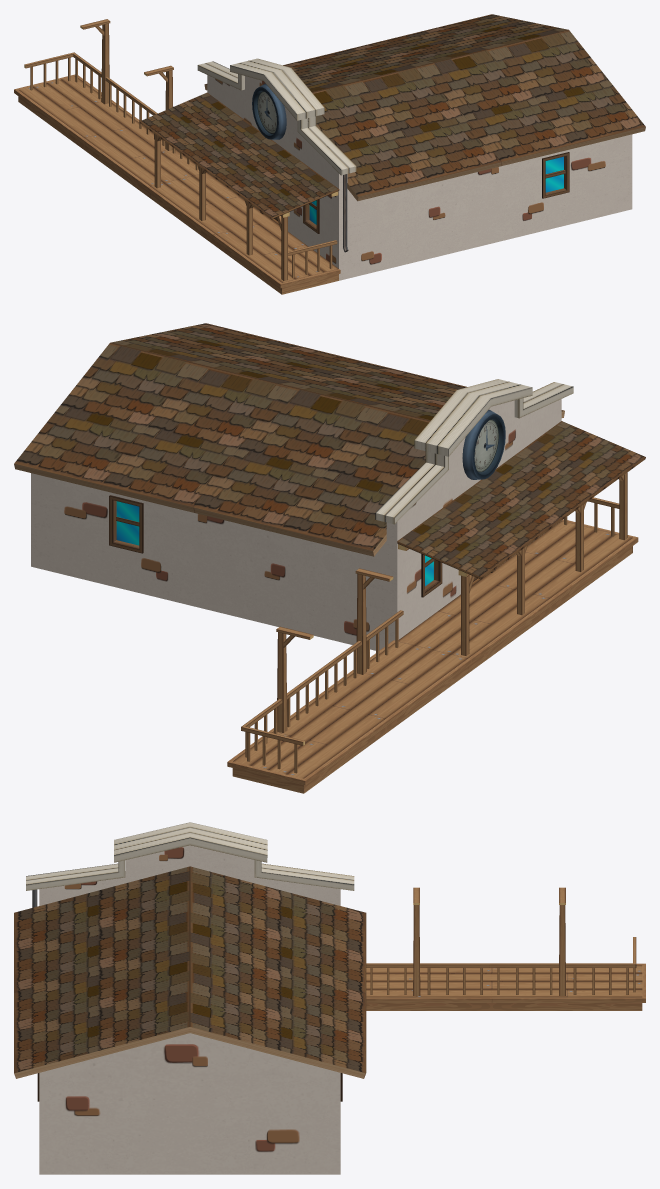
File: House_08.FBX
3 views of the same model, one above another, from view 1: azimuth 30°, elevation 25°; view 2: azimuth 150°, elevation 25°; view 3: azimuth 270°, elevation 25° (orthographic). The views are drawn at different scales.
Parts seen in each view (by area): view 1: Roof, Frontage, Walls, Front, Clock, Glass; view 2: Roof, Frontage, Walls, Front, Clock, Glass; view 3: Roof, Walls, Frontage, Front.
Boxes of the visible parts, bbox=[...] form: Roof: bbox=[204, 14, 645, 201]; Frontage: bbox=[14, 19, 340, 294]; Walls: bbox=[347, 134, 632, 278]; Front: bbox=[197, 58, 356, 280]; Clock: bbox=[252, 83, 286, 139]; Glass: bbox=[309, 156, 563, 224]; Roof: bbox=[14, 323, 564, 556]; Frontage: bbox=[227, 421, 645, 793]; Walls: bbox=[31, 473, 386, 650]; Front: bbox=[375, 379, 573, 643]; Clock: bbox=[462, 409, 505, 479]; Glass: bbox=[116, 501, 433, 586]; Roof: bbox=[14, 866, 366, 1078]; Walls: bbox=[37, 1033, 342, 1174]; Frontage: bbox=[366, 887, 645, 1010]; Front: bbox=[26, 822, 354, 907].
Bounding box in the file's own units: 12.74 × 5.38 × 16.77.
